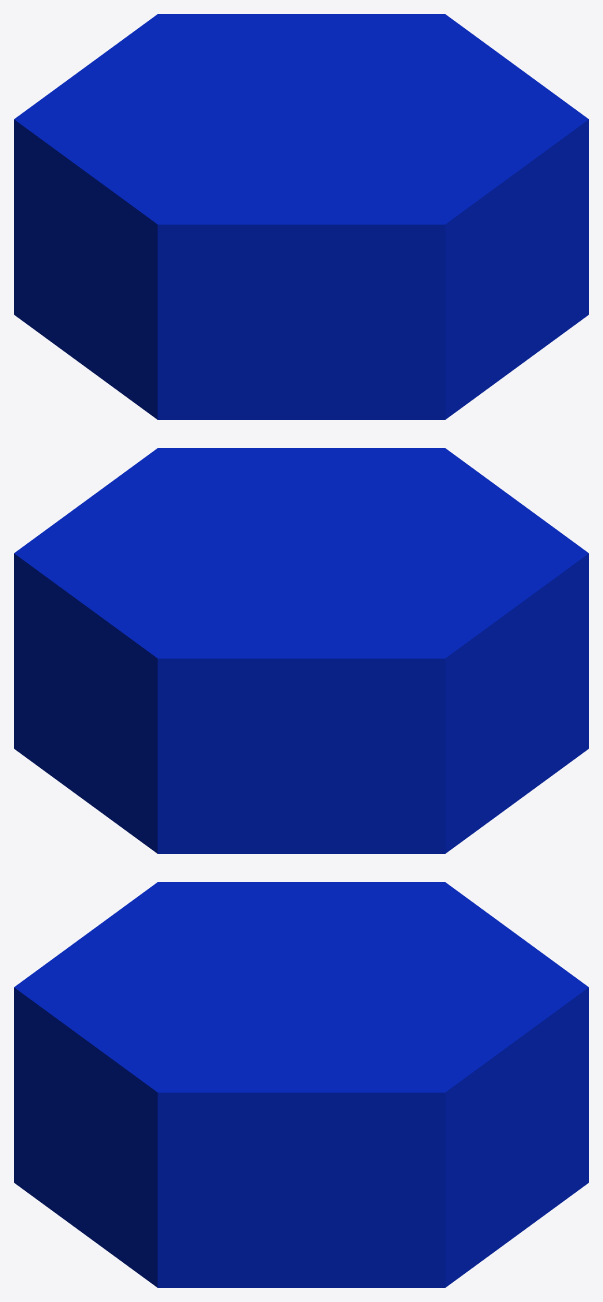
File: hex_ocean.fbx
The picture shows the model from 3 angles, top to bottom: view 1: azimuth 30°, elevation 25°; view 2: azimuth 150°, elevation 25°; view 3: azimuth 270°, elevation 25°; orthographic projection.
Visible parts, largest first — view 1: hex; view 2: hex; view 3: hex.
Boxes of the visible parts, box(x1,y1,x2,y2) form: hex: box(14, 14, 588, 419); hex: box(14, 448, 588, 853); hex: box(14, 882, 588, 1287).
Size of the model in its own units: 173 by 75 by 200.
